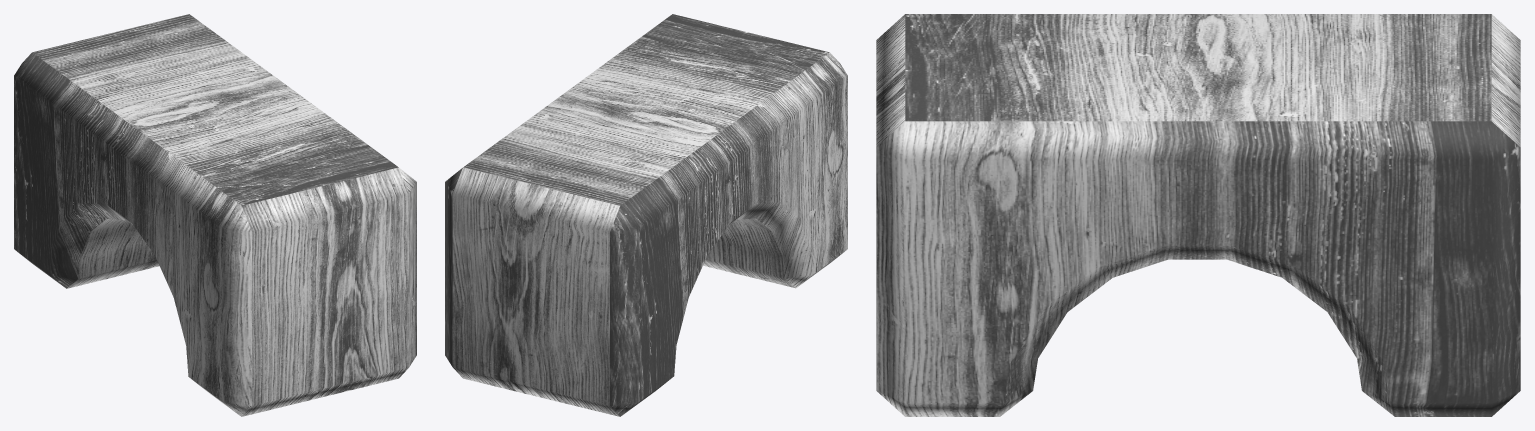
File: SM_Toy_A3.fbx
3 renders of one model, left to right at view 1: azimuth 30°, elevation 25°; view 2: azimuth 150°, elevation 25°; view 3: azimuth 270°, elevation 25°, orthographic. The views are drawn at different scales.
Visible parts, largest first — view 1: SM_Toy_A3; view 2: SM_Toy_A3; view 3: SM_Toy_A3.
Part boxes in pixels (left/top/right/bottom): SM_Toy_A3: left=14, top=14, right=416, bottom=416; SM_Toy_A3: left=445, top=14, right=847, bottom=416; SM_Toy_A3: left=876, top=14, right=1520, bottom=416.
Bounding box in the file's own units: 8.15 × 16.82 × 8.51.
1 material, 1 textured.
